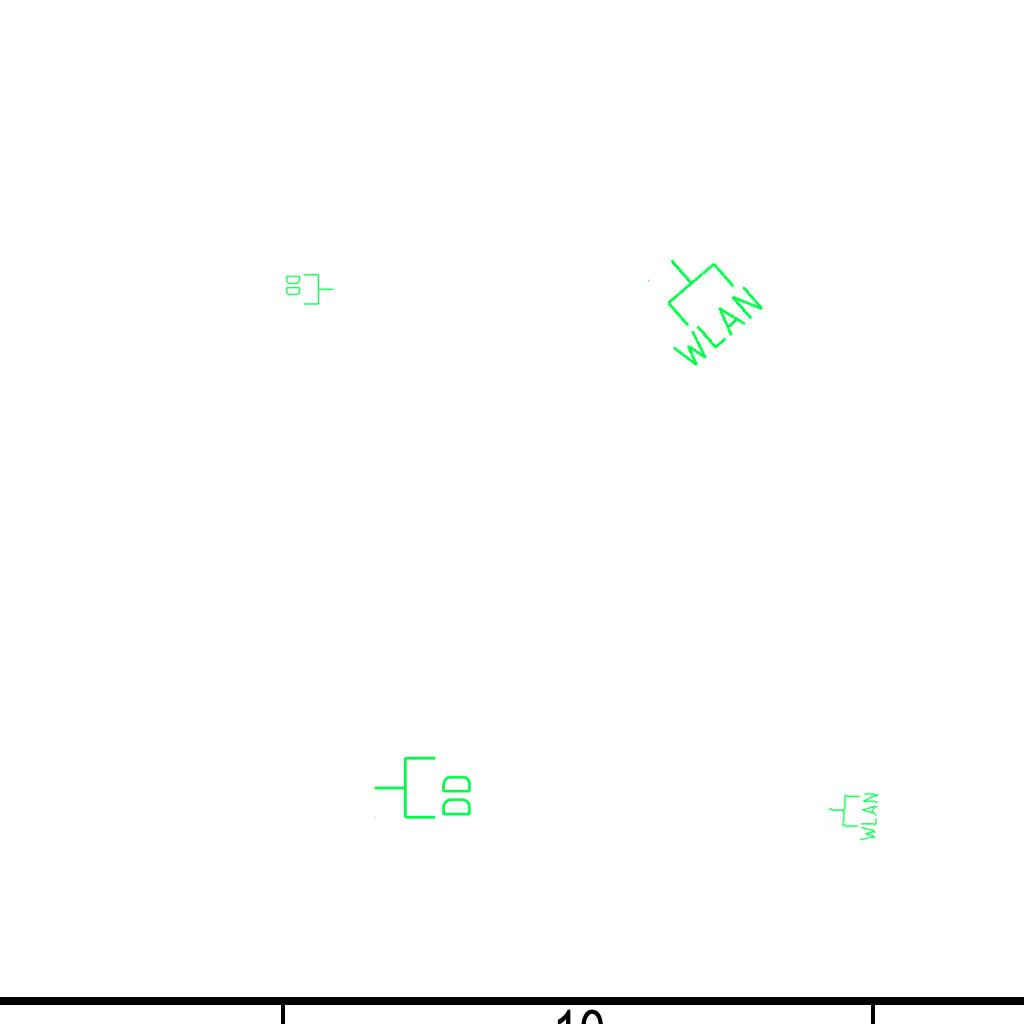Datenanschluss_zweifach: (372, 754, 475, 823), (284, 272, 335, 306)
WLAN: (622, 229, 770, 378), (825, 788, 881, 844)
